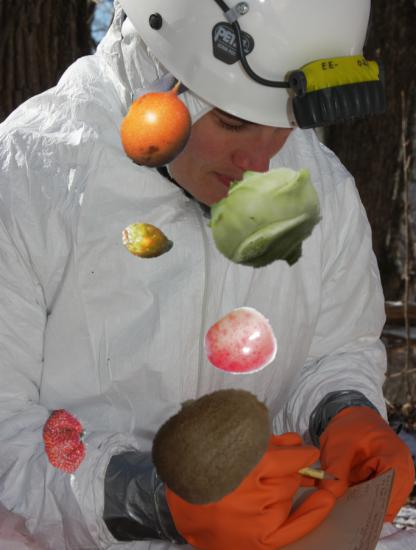Cactus: (121, 216, 174, 269)
Cherry: (205, 308, 278, 381)
Granadilla: (112, 76, 207, 171)
Kiwi: (148, 376, 285, 513)
Kohlrabi: (207, 155, 332, 280)
Strawberry: (35, 409, 100, 474)
